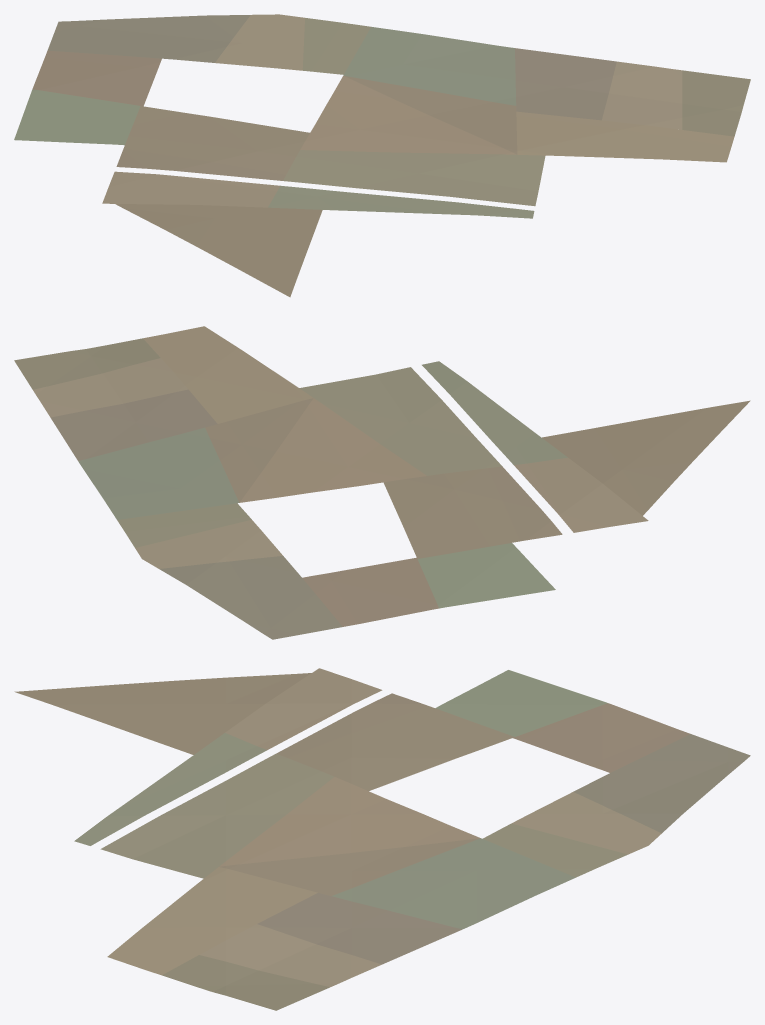
The model's file is farm_7_6_soil.glb.
3 renders of one model, top to bottom at view 1: azimuth 30°, elevation 25°; view 2: azimuth 150°, elevation 25°; view 3: azimuth 270°, elevation 25°, orthographic. The views are drawn at different scales.
Parts seen in each view (by area): view 1: geometry_0; view 2: geometry_0; view 3: geometry_0.
Part boxes in pixels (x1,y1,x2,y2): geometry_0: [14, 14, 750, 297]; geometry_0: [14, 326, 750, 639]; geometry_0: [14, 668, 750, 1010].
Size of the model in its own units: 494 by 12.33 by 470.
